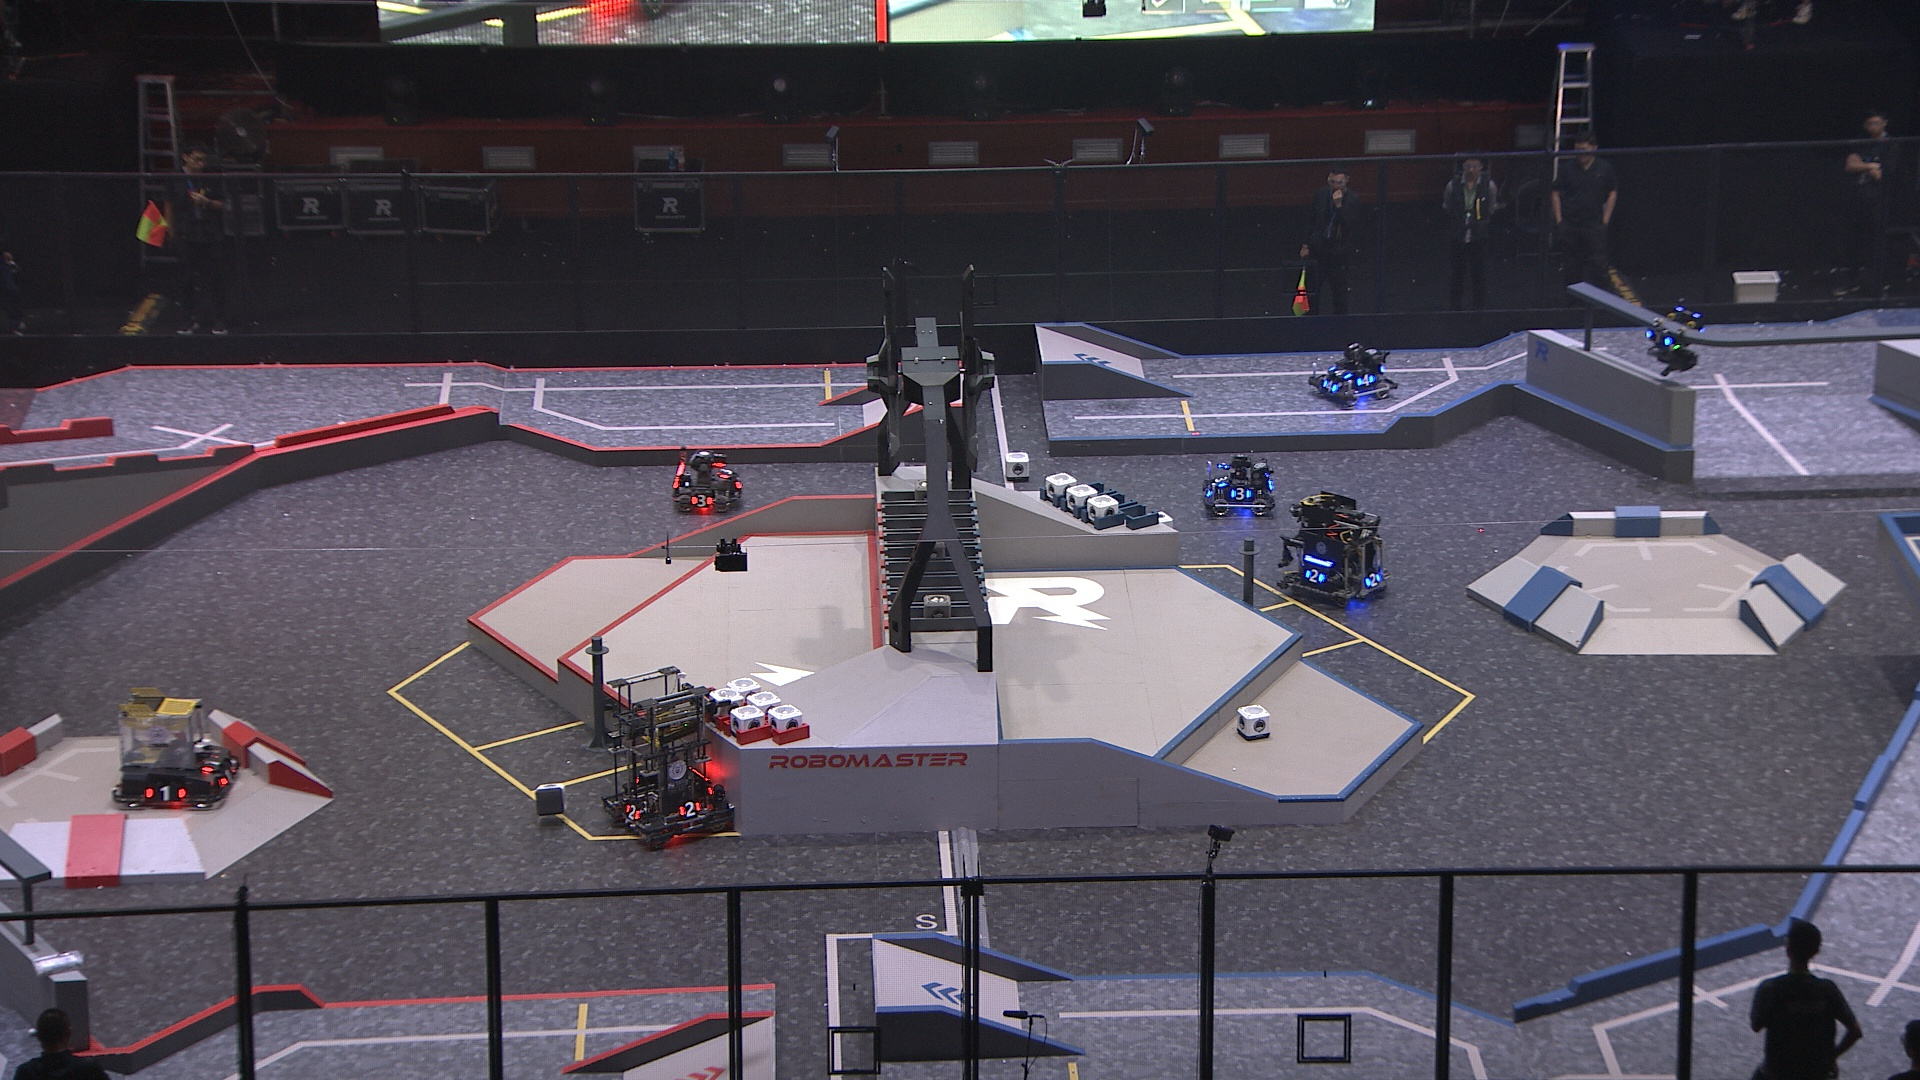armor: (142, 785, 189, 803), (1644, 323, 1673, 347), (675, 798, 704, 818), (688, 491, 716, 510), (1226, 484, 1254, 502), (1349, 371, 1377, 389), (200, 749, 222, 773), (1302, 566, 1327, 585), (219, 764, 237, 790), (622, 800, 644, 822), (1320, 376, 1342, 396), (1327, 363, 1353, 378), (1362, 570, 1382, 589), (1200, 480, 1218, 500), (1212, 471, 1230, 489), (716, 463, 735, 480)
car: (599, 661, 746, 853), (112, 684, 243, 808), (1275, 488, 1393, 609), (1304, 342, 1400, 409), (1197, 451, 1276, 524), (670, 446, 746, 518)
watcher: (1640, 295, 1705, 375)
